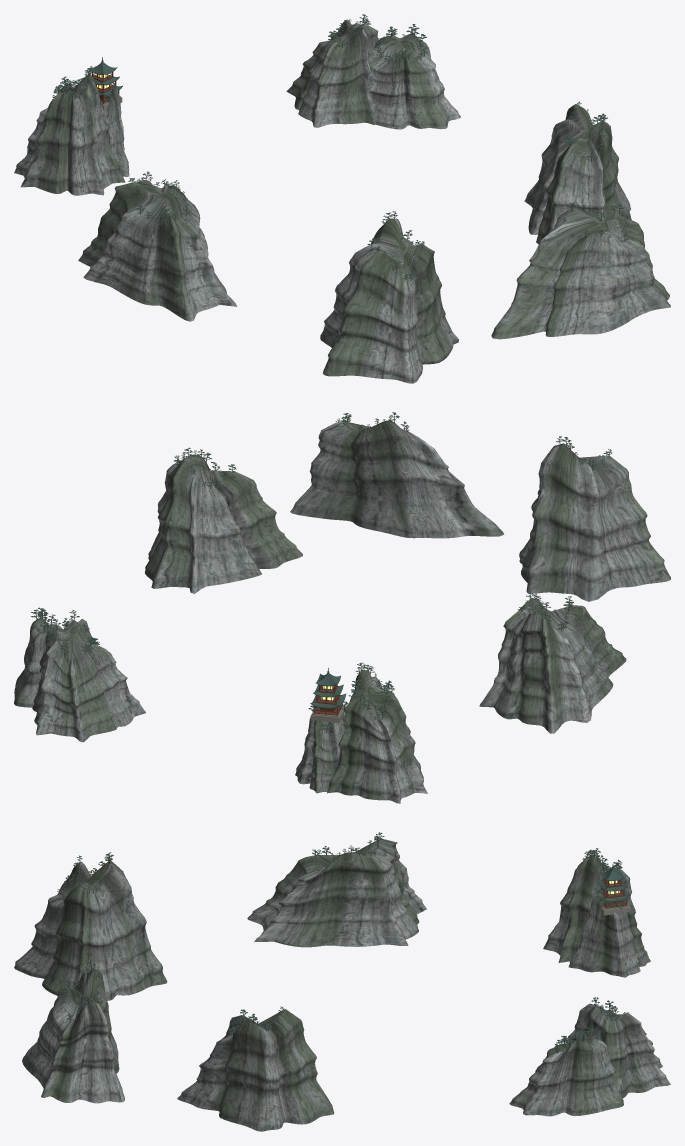
File: GardenRidges.glb
The picture shows the model from 3 angles, top to bottom: view 1: azimuth 30°, elevation 25°; view 2: azimuth 150°, elevation 25°; view 3: azimuth 270°, elevation 25°; orthographic projection. The views are drawn at different scales.
Visible parts, largest first — view 1: Limestone spurs, Summit pines, Mountain pass beacon; view 2: Limestone spurs, Summit pines, Mountain pass beacon; view 3: Limestone spurs, Summit pines, Mountain pass beacon.
Part boxes in pixels (x1,y1,x2,y2): Limestone spurs: (14, 19, 670, 383); Summit pines: (52, 14, 630, 280); Mountain pass beacon: (88, 57, 122, 110); Limestone spurs: (14, 420, 670, 803); Summit pines: (31, 412, 612, 732); Mountain pass beacon: (310, 667, 346, 722); Limestone spurs: (14, 839, 670, 1131); Summit pines: (57, 832, 629, 1053); Mountain pass beacon: (595, 864, 630, 915).
Size of the model in its own units: 122 by 31.16 by 147.
Materials: 6 (1 with a texture image).
